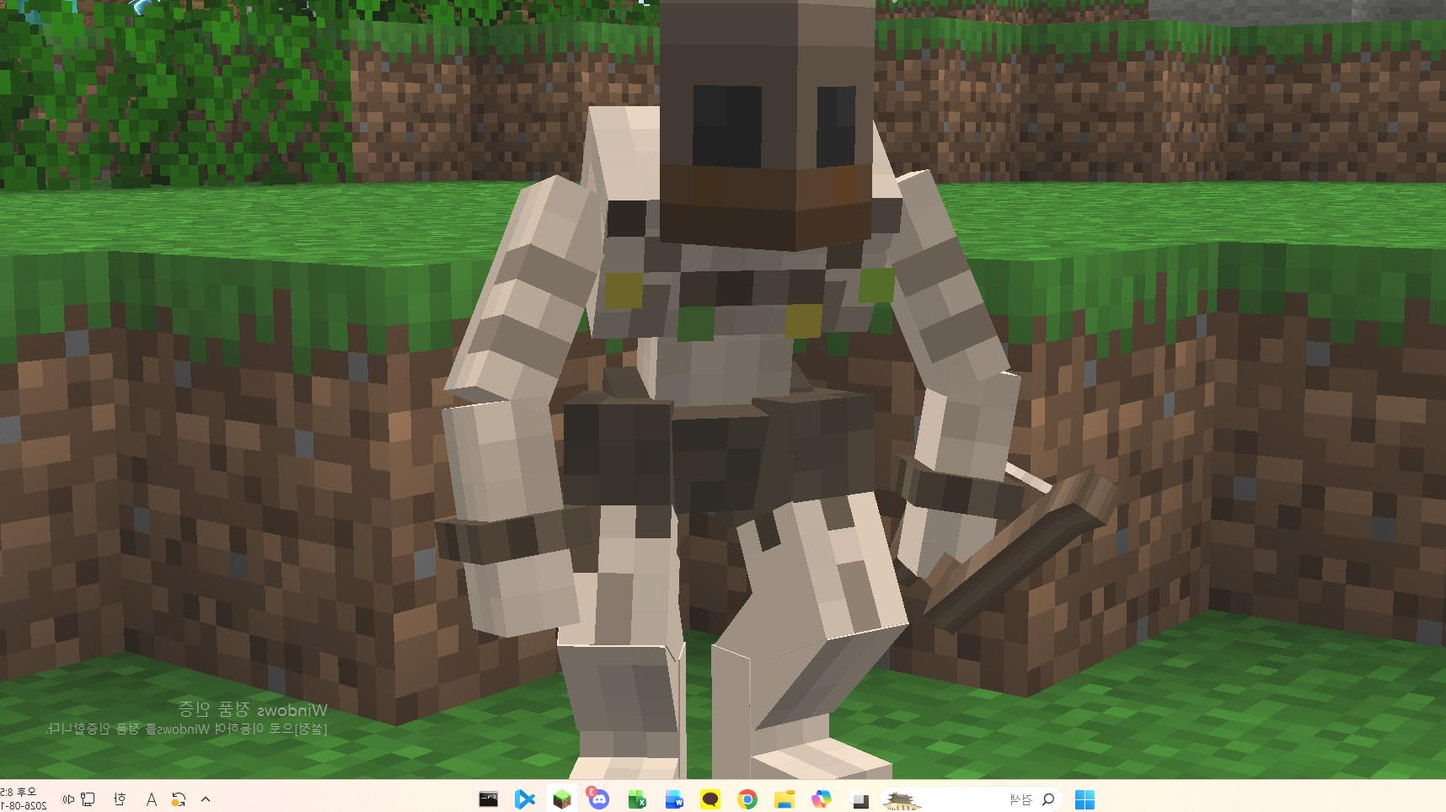bow_indian: (374, 0, 1061, 773)
